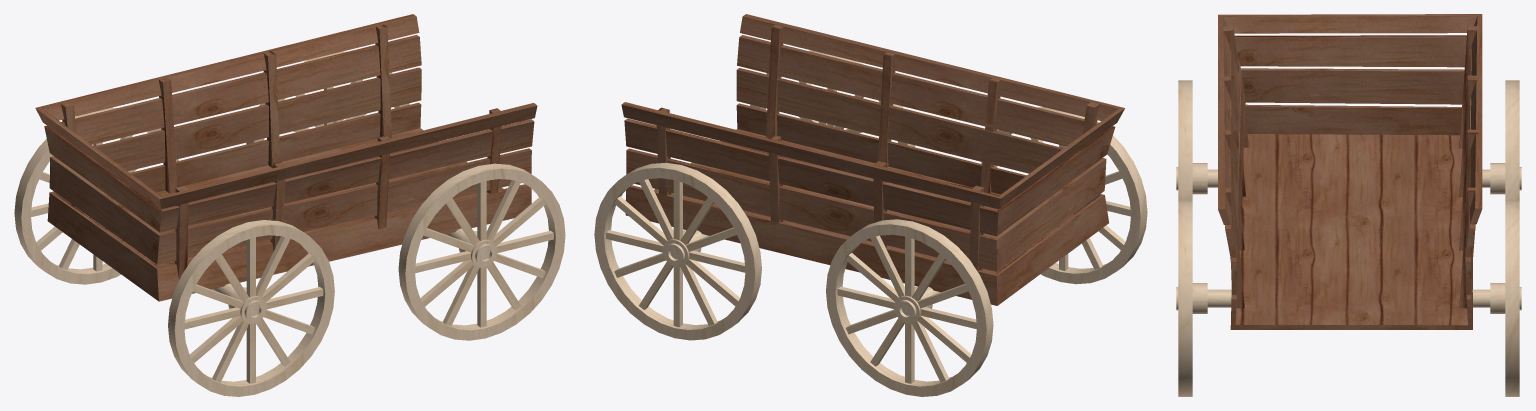
Rendered from Carroça2.fbx.
3 renders of one model, left to right at view 1: azimuth 30°, elevation 25°; view 2: azimuth 150°, elevation 25°; view 3: azimuth 270°, elevation 25°, orthographic. The views are drawn at different scales.
Parts seen in each view (by area): view 1: Box001.001, Cylinder.002, Cylinder.003; view 2: Box001.001, Cylinder.002, Cylinder.003; view 3: Box001.001, Cylinder.003, Cylinder.002.
Boxes of the visible parts, x1=… form: Box001.001: x1=35, y1=14, x2=537, y2=301; Cylinder.002: x1=14, y1=107, x2=334, y2=396; Cylinder.003: x1=246, y1=51, x2=565, y2=340; Box001.001: x1=621, y1=14, x2=1124, y2=305; Cylinder.002: x1=826, y1=107, x2=1147, y2=396; Cylinder.003: x1=594, y1=50, x2=915, y2=340; Box001.001: x1=1218, y1=14, x2=1482, y2=329; Cylinder.003: x1=1176, y1=200, x2=1521, y2=396; Cylinder.002: x1=1176, y1=80, x2=1521, y2=200.
Size of the model in its own units: 247 by 123 by 178.
